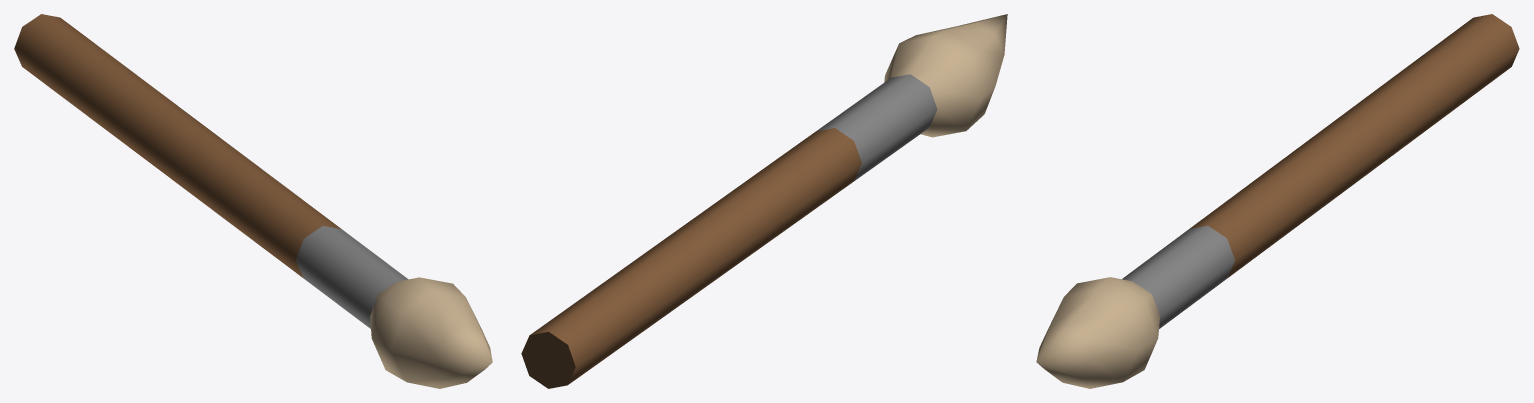
The model's file is PaintBrushThin.fbx.
3 views of the same model, side by side, from view 1: azimuth 30°, elevation 25°; view 2: azimuth 150°, elevation 25°; view 3: azimuth 330°, elevation 25° (orthographic).
Parts seen in each view (by area): view 1: PaintBrushThin; view 2: PaintBrushThin; view 3: PaintBrushThin.
Boxes of the visible parts, x1,y1,x2,y2 form: PaintBrushThin: [14, 14, 492, 388]; PaintBrushThin: [521, 14, 1007, 388]; PaintBrushThin: [1036, 14, 1519, 388].
Size of the model in its own units: 0.0339 by 0.0339 by 0.2801.
